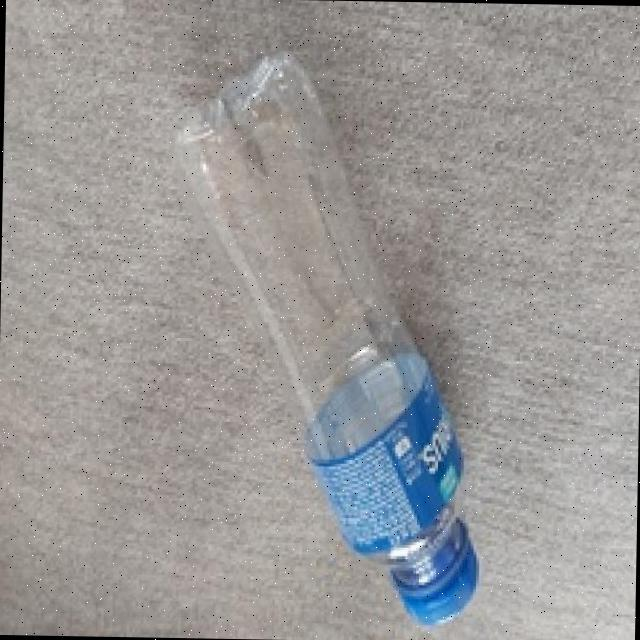bottle: (121, 23, 512, 620)
cap: (394, 553, 484, 626)
label: (298, 382, 476, 526)
